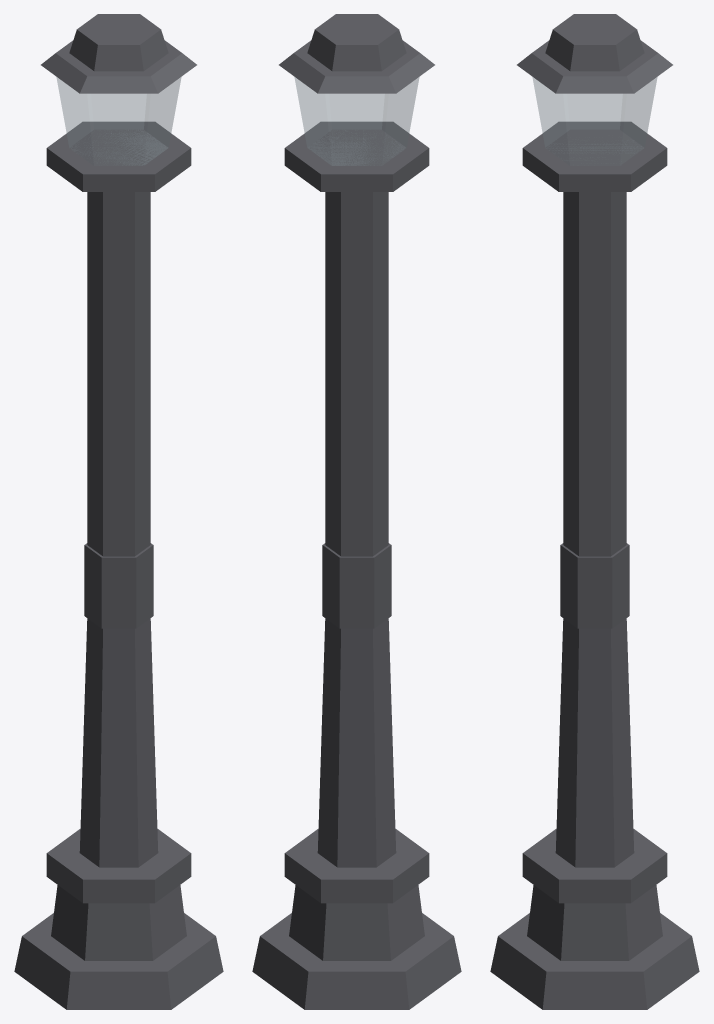
Rendered from lamp.fbx.
3 renders of one model, left to right at view 1: azimuth 30°, elevation 25°; view 2: azimuth 150°, elevation 25°; view 3: azimuth 270°, elevation 25°, orthographic.
Parts seen in each view (by area): view 1: lamp_base, lamp_cap, lamp_lantern; view 2: lamp_base, lamp_cap, lamp_lantern; view 3: lamp_base, lamp_cap, lamp_lantern.
Boxes of the visible parts, left/top/right/bottom form: lamp_base: left=14, top=121, right=223, bottom=1009; lamp_cap: left=41, top=14, right=196, bottom=93; lamp_lantern: left=56, top=77, right=181, bottom=165; lamp_base: left=252, top=121, right=461, bottom=1009; lamp_cap: left=279, top=14, right=434, bottom=93; lamp_lantern: left=294, top=77, right=419, bottom=165; lamp_base: left=490, top=121, right=699, bottom=1009; lamp_cap: left=517, top=14, right=672, bottom=93; lamp_lantern: left=532, top=77, right=657, bottom=165.
Bounding box in the file's own units: 0.866 × 4.97 × 1.
